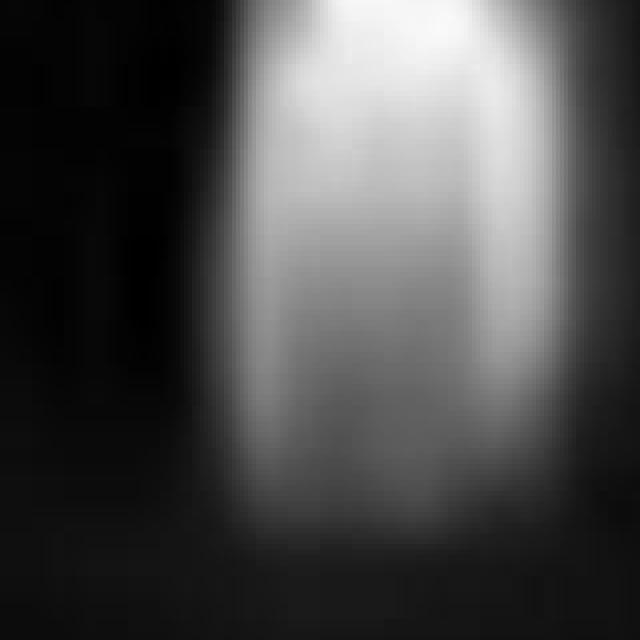person: (201, 1, 609, 561)
